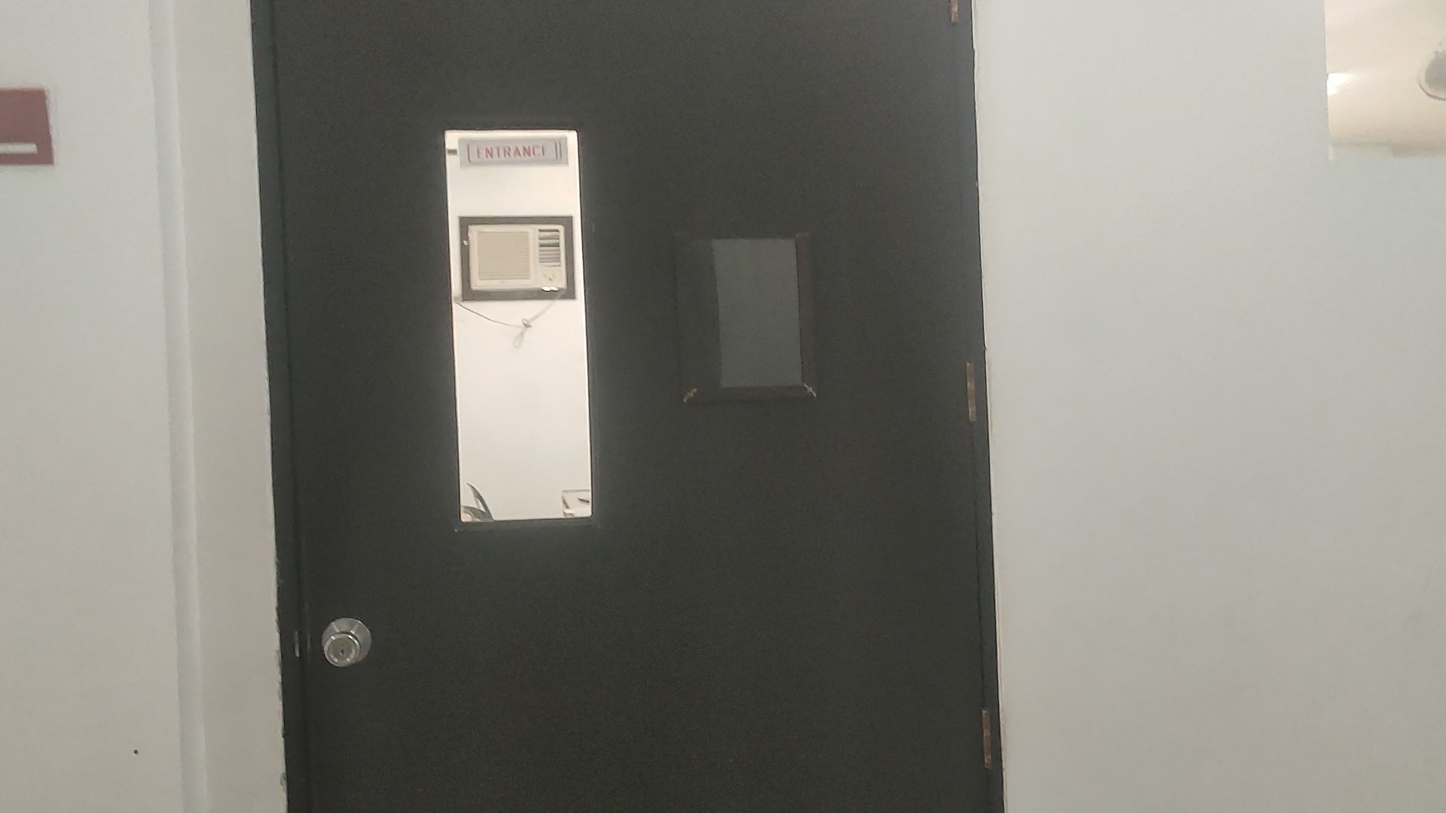door: (228, 0, 1009, 813)
